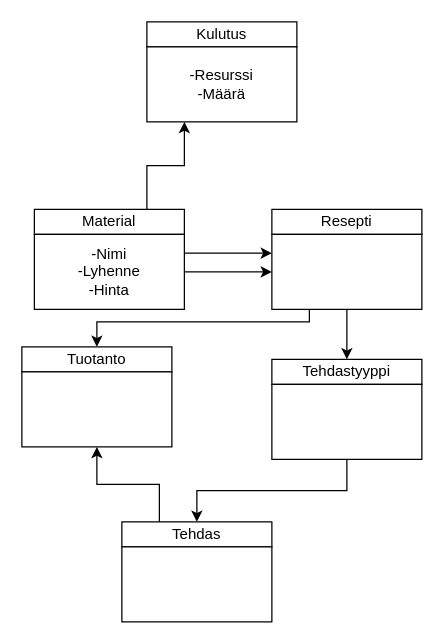
This 444x644 diagram has some shape labels left out. Here are the shapes that lost their labels. From the top down, the centre of each, then its label:
At pixel 346 271: "-Input-materiaalit -Output-materiaali -Aika".
At pixel 96 409: "-Resepti -Tehdas".
At pixel 346 421: "-Reseptit".
At pixel 196 584: "-Tehdastyyppi -Tehokkuus".
